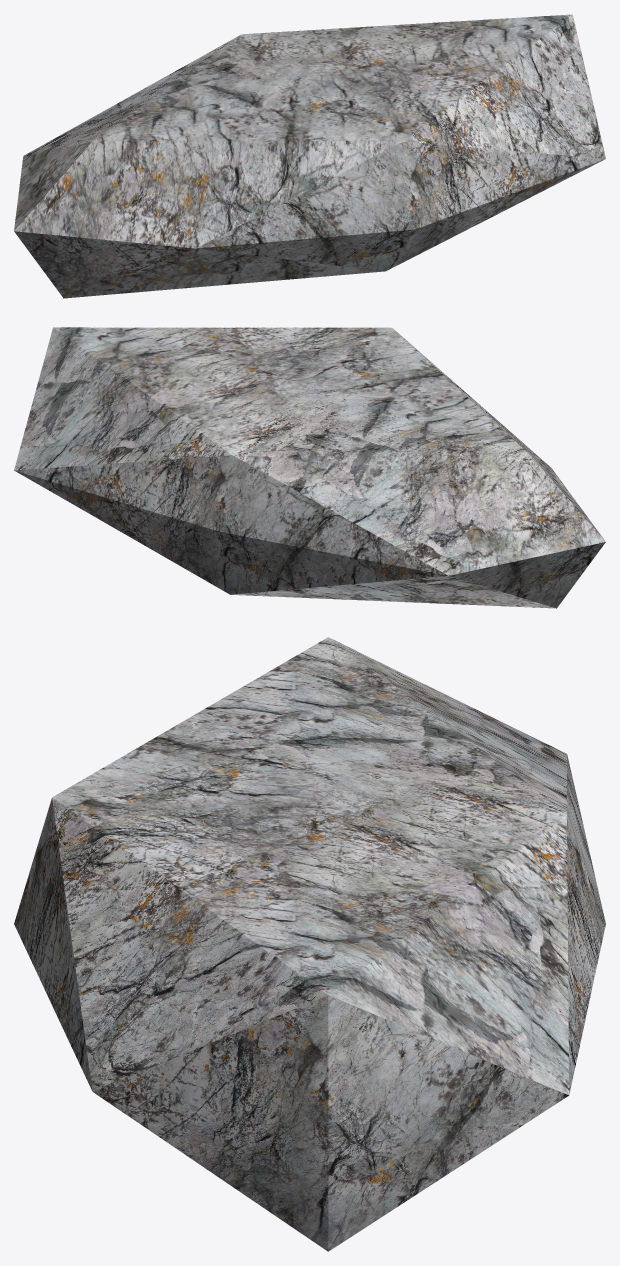
Rendered from granite_slab_far.gltf.
3 views of the same model, one above another, from view 1: azimuth 30°, elevation 25°; view 2: azimuth 150°, elevation 25°; view 3: azimuth 270°, elevation 25° (orthographic). The views are drawn at different scales.
Visible parts, largest first — view 1: granite_slab_far; view 2: granite_slab_far; view 3: granite_slab_far.
Boxes of the visible parts, box(x1,y1,x2,y2) form: granite_slab_far: box(14, 14, 605, 298); granite_slab_far: box(14, 327, 605, 608); granite_slab_far: box(14, 637, 605, 1251).
Bounding box in the file's own units: 2.59 × 0.7536 × 1.45.
Materials: 1 (1 with a texture image).
